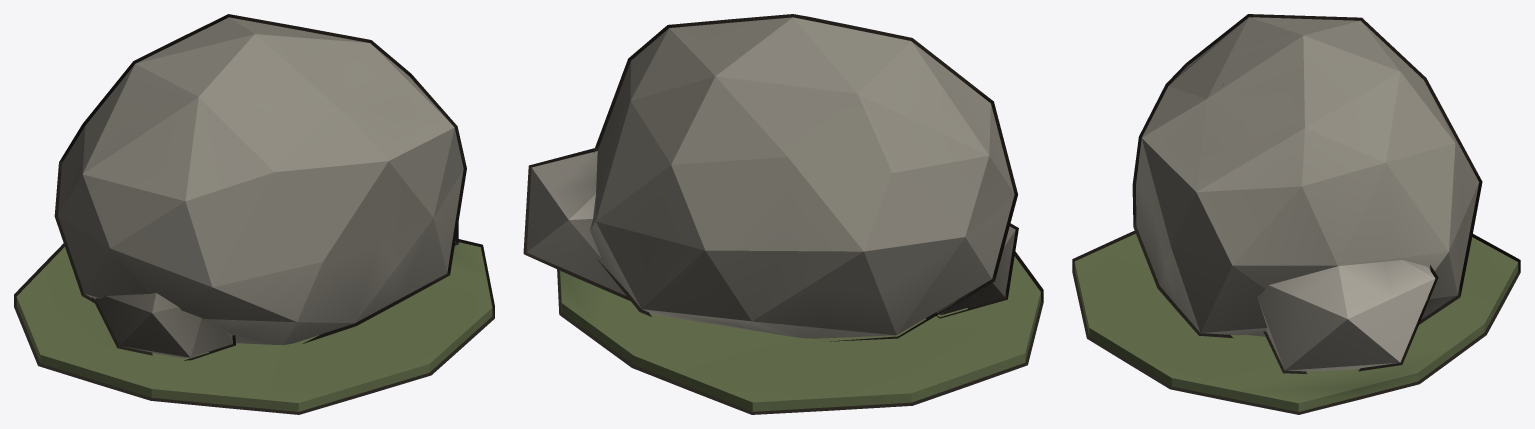
The model's file is gros_rocher.glb.
The picture shows the model from 3 angles, left to right: view 1: azimuth 30°, elevation 25°; view 2: azimuth 150°, elevation 25°; view 3: azimuth 270°, elevation 25°; orthographic projection. The views are drawn at different scales.
Parts seen in each view (by area): view 1: gros_rocher, gros_rocher_outline; view 2: gros_rocher, gros_rocher_outline; view 3: gros_rocher, gros_rocher_outline.
Part boxes in pixels (x1=…): gros_rocher: x1=16, y1=17, x2=492, y2=411; gros_rocher_outline: x1=14, y1=14, x2=494, y2=414; gros_rocher: x1=526, y1=17, x2=1040, y2=411; gros_rocher_outline: x1=523, y1=14, x2=1043, y2=414; gros_rocher: x1=1074, y1=17, x2=1518, y2=411; gros_rocher_outline: x1=1072, y1=14, x2=1520, y2=414.
Bounding box in the file's own units: 2.12 × 1.36 × 1.88.
